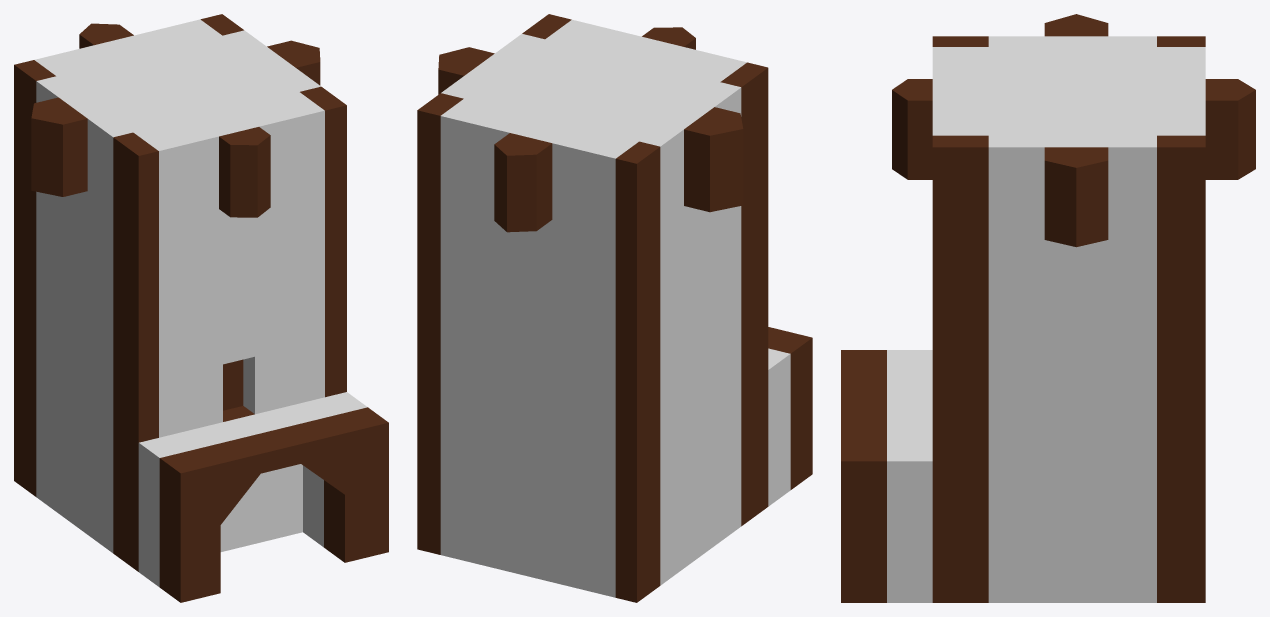
Rendered from Torre.fbx.
3 renders of one model, left to right at view 1: azimuth 30°, elevation 25°; view 2: azimuth 150°, elevation 25°; view 3: azimuth 270°, elevation 25°, orthographic. The views are drawn at different scales.
Visible parts, largest first — view 1: Cube; view 2: Cube; view 3: Cube.
Part boxes in pixels (x1,y1,x2,y2): Cube: [14, 14, 388, 602]; Cube: [417, 14, 812, 602]; Cube: [841, 14, 1255, 602].
Bounding box in the file's own units: 352 × 485 × 401.
